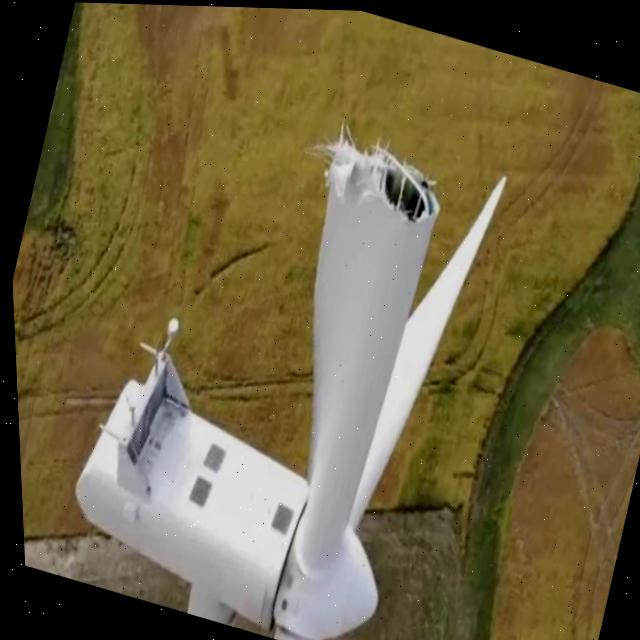damaged-blade: (290, 136, 436, 568), (287, 162, 434, 571)
